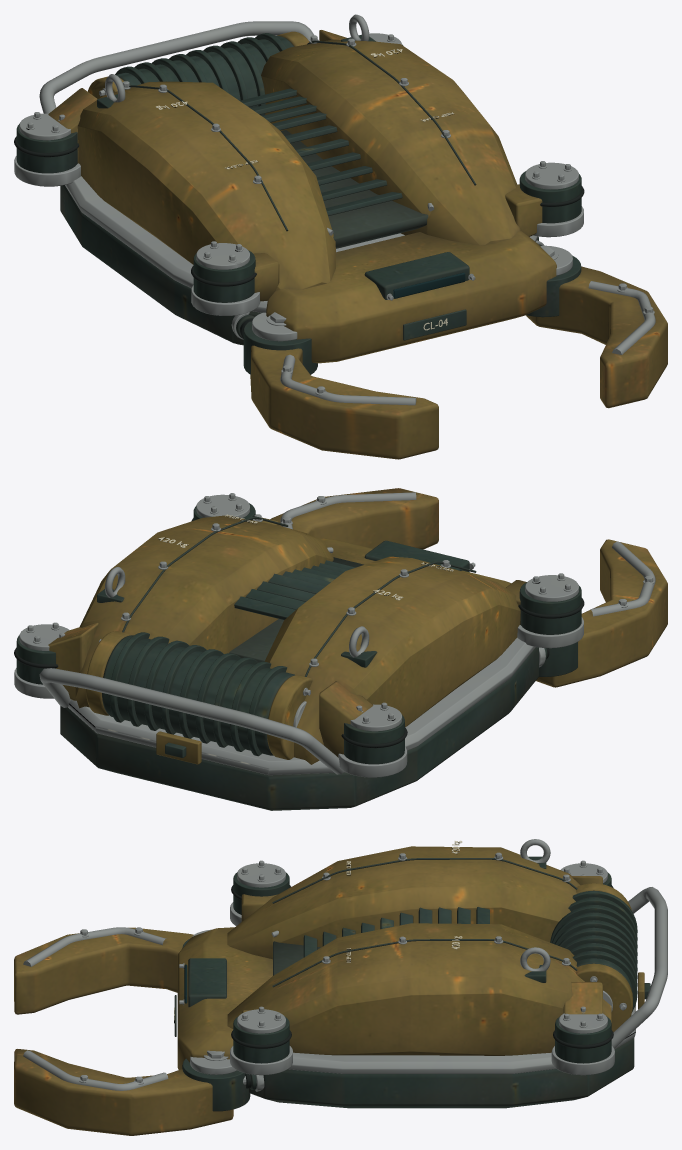
File: clamp.glb
3 renders of one model, top to bottom at view 1: azimuth 30°, elevation 25°; view 2: azimuth 150°, elevation 25°; view 3: azimuth 270°, elevation 25°, orthographic. The views are drawn at different scales.
Parts seen in each view (by area): view 1: CLAMP_Body, CLAMP_Jaw_L, CLAMP_Jaw_R; view 2: CLAMP_Body, CLAMP_Jaw_L, CLAMP_Jaw_R; view 3: CLAMP_Body, CLAMP_Jaw_R, CLAMP_Jaw_L.
Boxes of the visible parts, x1=… form: CLAMP_Body: x1=14, y1=14, x2=584, y2=374; CLAMP_Jaw_L: x1=250, y1=345, x2=438, y2=459; CLAMP_Jaw_R: x1=526, y1=266, x2=667, y2=408; CLAMP_Body: x1=14, y1=493, x2=584, y2=810; CLAMP_Jaw_L: x1=536, y1=539, x2=667, y2=687; CLAMP_Jaw_R: x1=270, y1=488, x2=438, y2=549; CLAMP_Body: x1=174, y1=839, x2=667, y2=1111; CLAMP_Jaw_R: x1=14, y1=1049, x2=233, y2=1135; CLAMP_Jaw_L: x1=14, y1=927, x2=193, y2=1014.
Size of the model in its own units: 1.43 by 0.625 by 2.32.
1 material, 1 textured.
